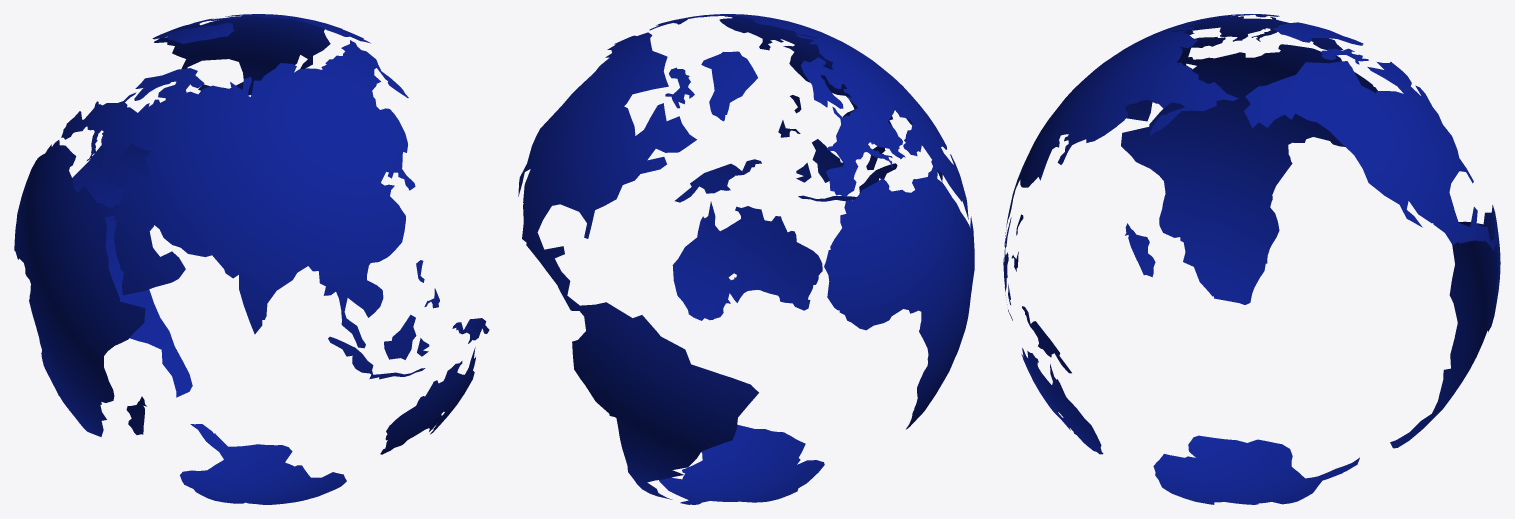
The model's file is globe_land.FBX.
The picture shows the model from 3 angles, left to right: view 1: azimuth 30°, elevation 25°; view 2: azimuth 150°, elevation 25°; view 3: azimuth 270°, elevation 25°; orthographic projection.
Visible parts, largest first — view 1: polySurface1 polySurface9; view 2: polySurface1 polySurface9; view 3: polySurface1 polySurface9.
Boxes of the visible parts, bbox=[...] form: polySurface1 polySurface9: bbox=[14, 14, 489, 504]; polySurface1 polySurface9: bbox=[518, 14, 974, 504]; polySurface1 polySurface9: bbox=[1003, 14, 1500, 504].
Size of the model in its own units: 254 by 303 by 304.
